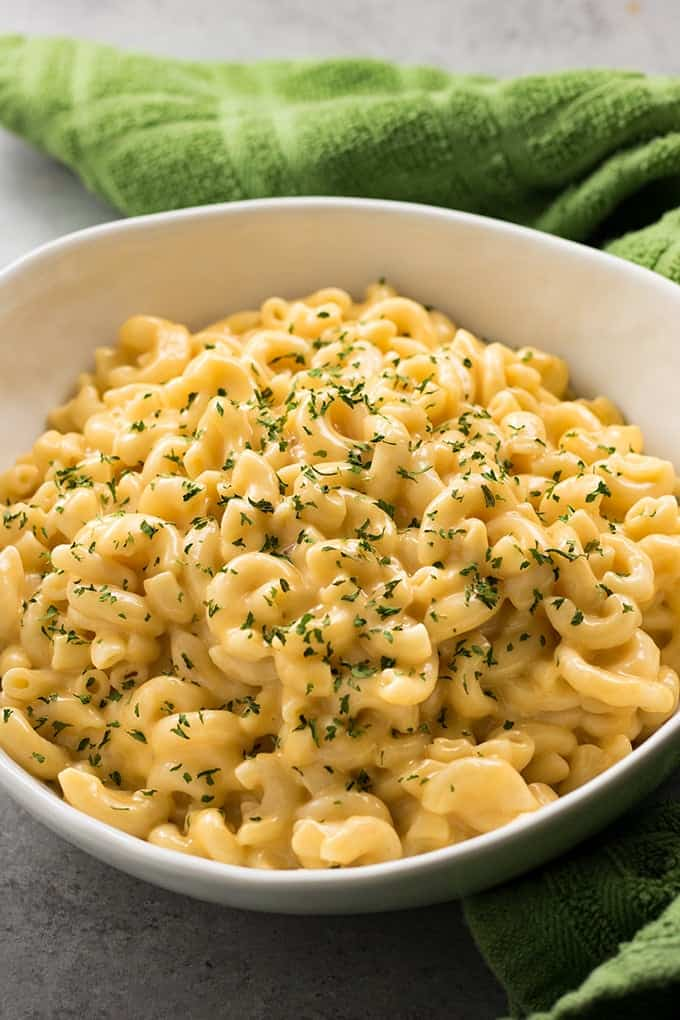cheese: (223, 397, 431, 592), (520, 471, 609, 653)
